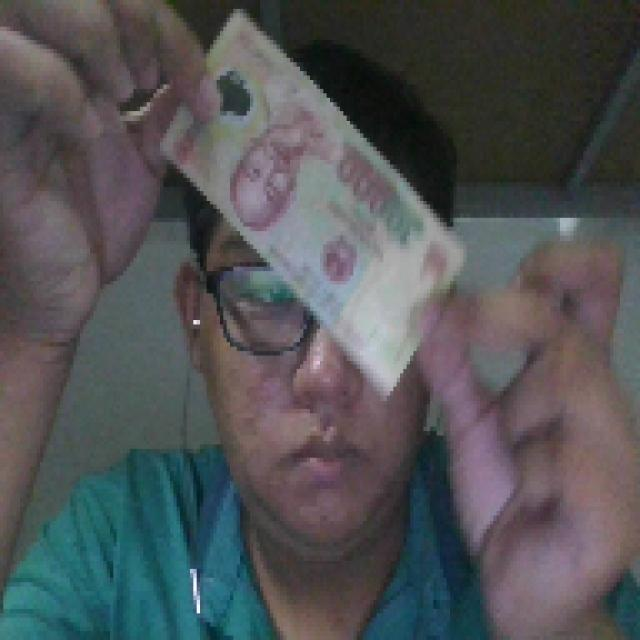10 000 VND: (153, 4, 470, 404)
